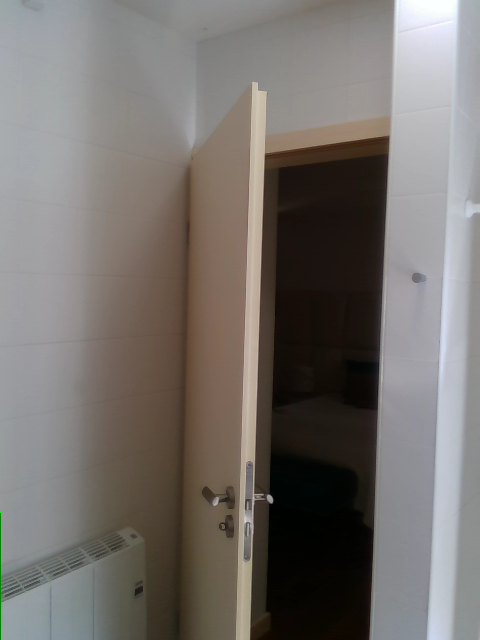semi: (176, 85, 388, 635)
